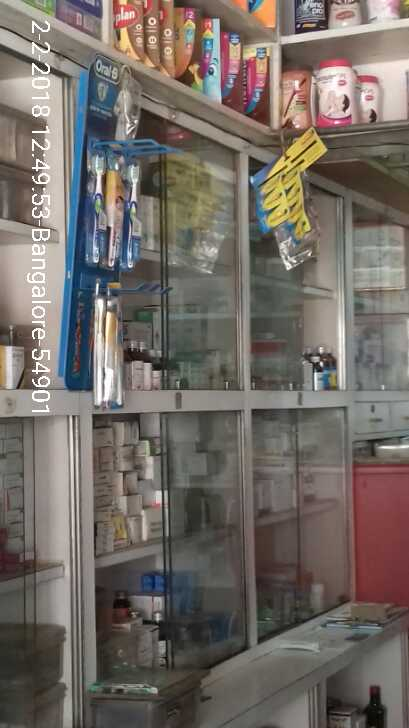oralb: (85, 152, 143, 277)
